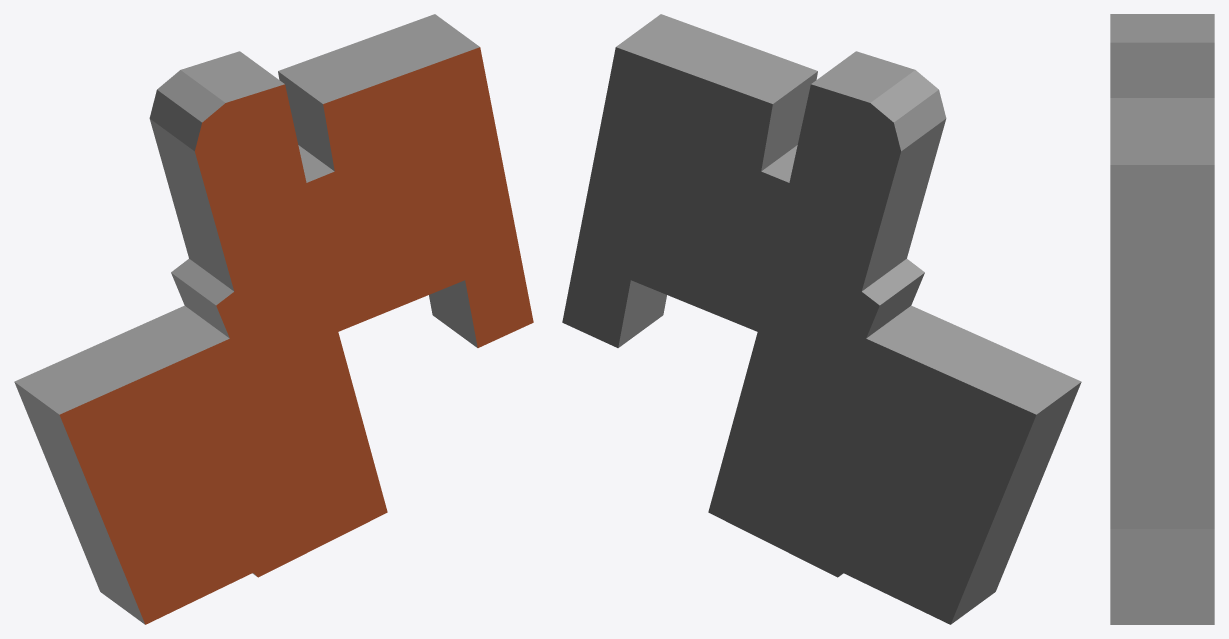
Rendered from construction_1725_assumed_A_Casa_h6m.obj.
3 views of the same model, side by side, from view 1: azimuth 30°, elevation 25°; view 2: azimuth 150°, elevation 25°; view 3: azimuth 270°, elevation 25° (orthographic). The views are drawn at different scales.
Parts seen in each view (by area): view 1: construction_1725_assumed_A_Casa; view 2: construction_1725_assumed_A_Casa; view 3: construction_1725_assumed_A_Casa.
Boxes of the visible parts, <box> form: construction_1725_assumed_A_Casa: <box>14,14,533,624</box>; construction_1725_assumed_A_Casa: <box>562,14,1081,624</box>; construction_1725_assumed_A_Casa: <box>1110,14,1214,624</box>.
Bounding box in the file's own units: 36.34 × 37.09 × 6.
